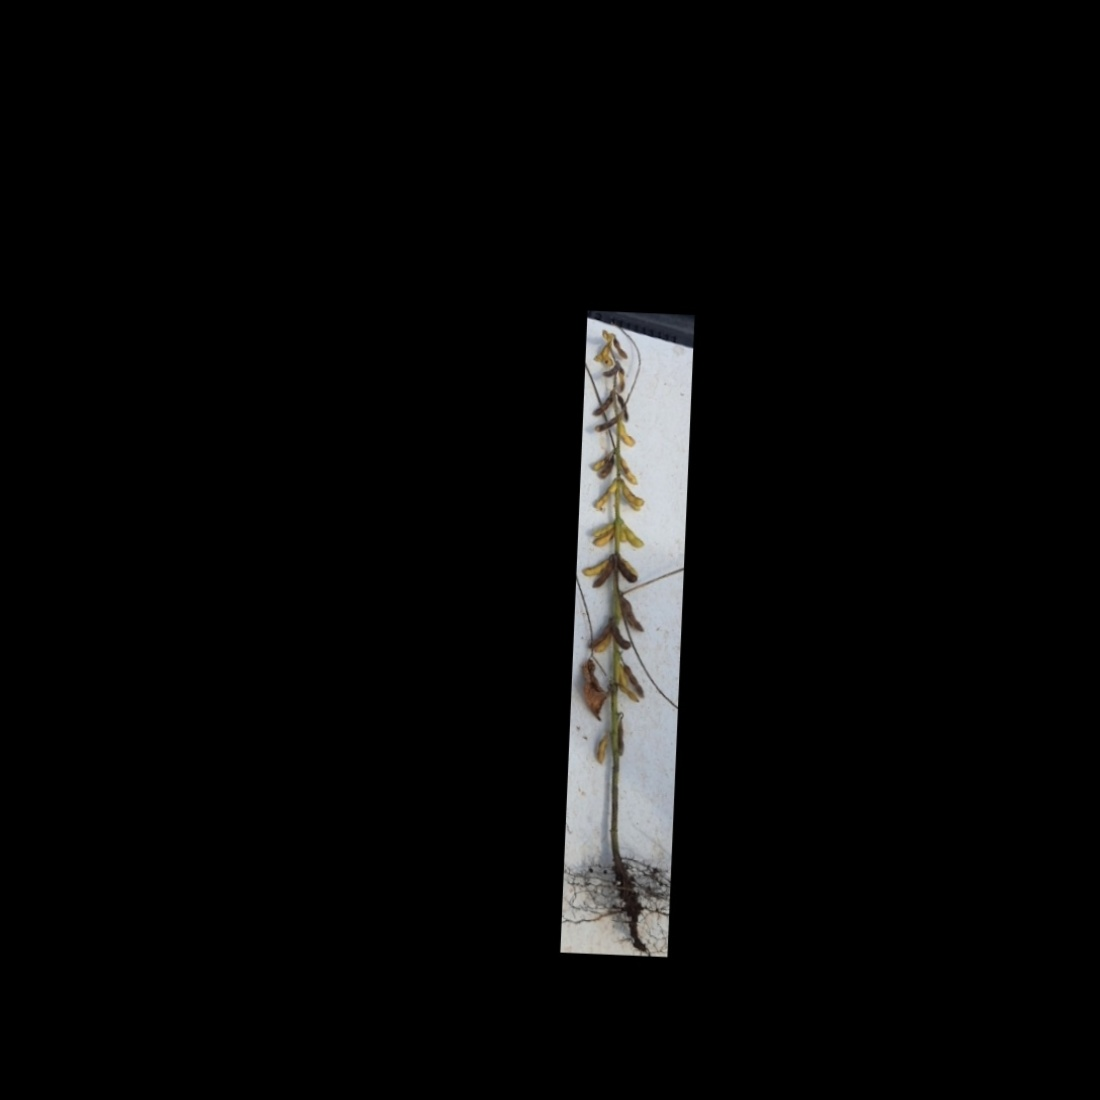pod: (618, 596, 647, 635), (623, 664, 650, 699), (589, 389, 614, 419), (591, 414, 618, 434), (593, 733, 609, 767), (615, 391, 631, 424), (618, 684, 640, 706), (612, 337, 631, 360)
soy: (567, 324, 682, 936)
